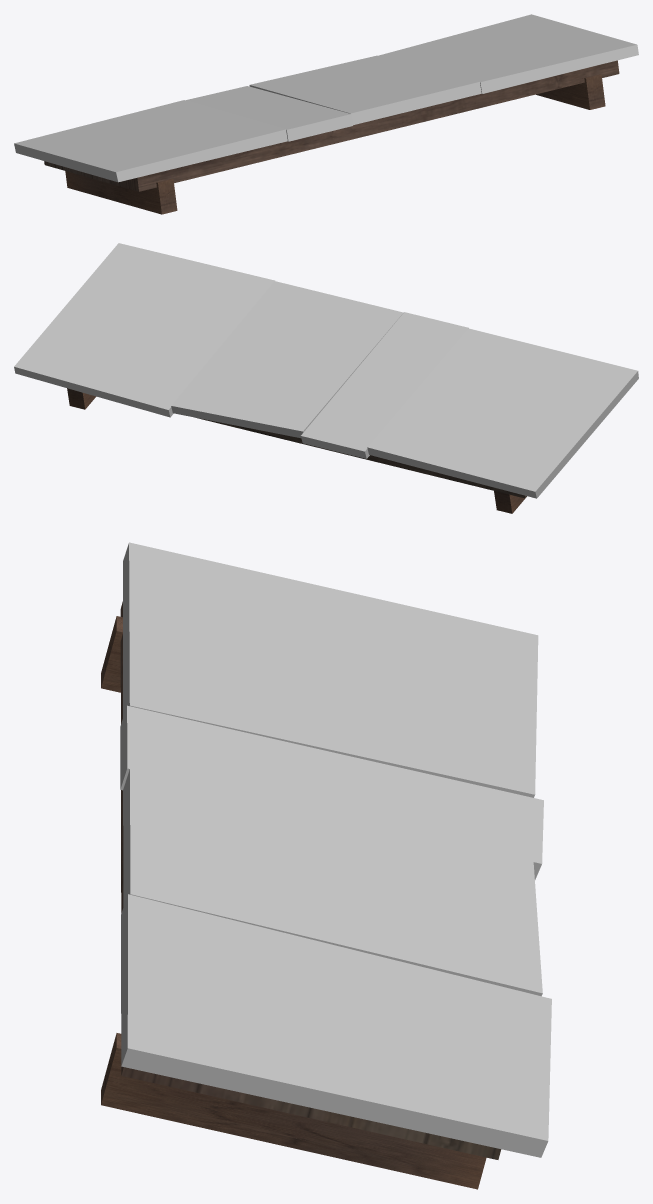
File: jovhouse_sunshade03bb.fbx
The picture shows the model from 3 angles, top to bottom: view 1: azimuth 30°, elevation 25°; view 2: azimuth 150°, elevation 25°; view 3: azimuth 270°, elevation 25°; orthographic projection. The views are drawn at different scales.
Visible parts, largest first — view 1: jovhouse_sunshade03bb; view 2: jovhouse_sunshade03bb; view 3: jovhouse_sunshade03bb.
Boxes of the visible parts, box(x1,y1,x2,y2) form: jovhouse_sunshade03bb: box(14, 14, 638, 214); jovhouse_sunshade03bb: box(14, 243, 638, 513); jovhouse_sunshade03bb: box(101, 542, 551, 1189).
Bounding box in the file's own units: 216 × 35.78 × 81.1.
